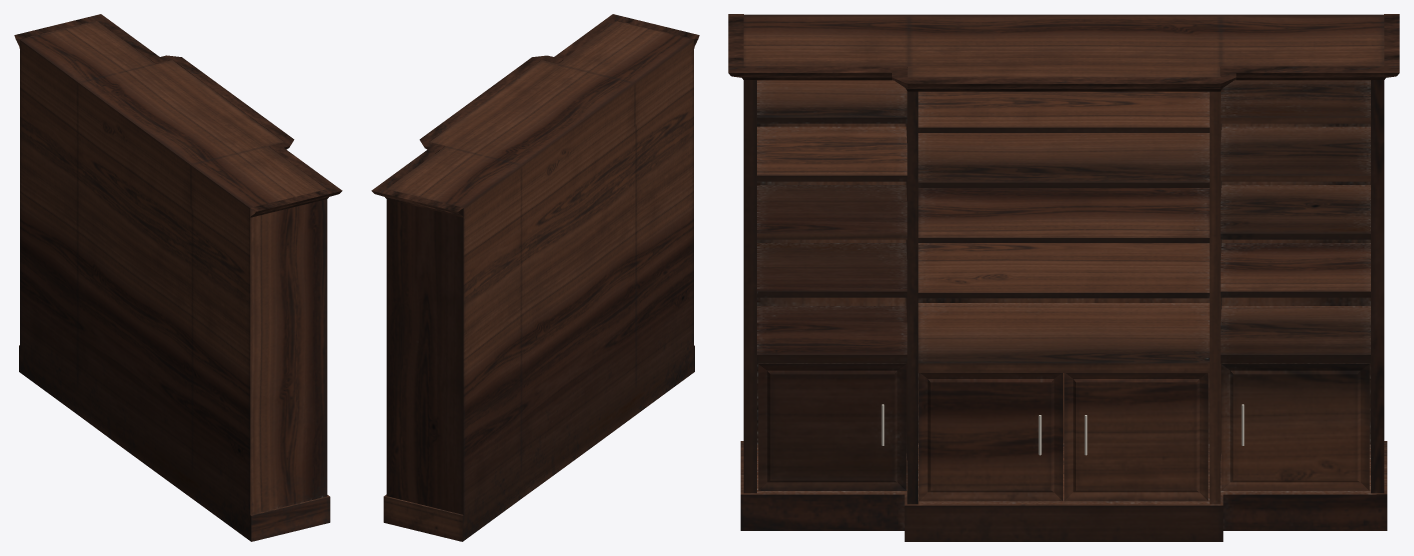
File: chocolate_beech_bookshelf_free.glb
The picture shows the model from 3 angles, left to right: view 1: azimuth 30°, elevation 25°; view 2: azimuth 150°, elevation 25°; view 3: azimuth 270°, elevation 25°; orthographic projection. The views are drawn at different scales.
Parts seen in each view (by area): view 1: Cylinder; view 2: Cylinder; view 3: Cylinder.
Part boxes in pixels (box(x1,y1,x2,y2)): Cylinder: box(14, 14, 342, 541); Cylinder: box(371, 14, 699, 541); Cylinder: box(728, 14, 1399, 541).
Size of the model in its own units: 124 by 382 by 501.
Materials: 2 (2 with a texture image).
